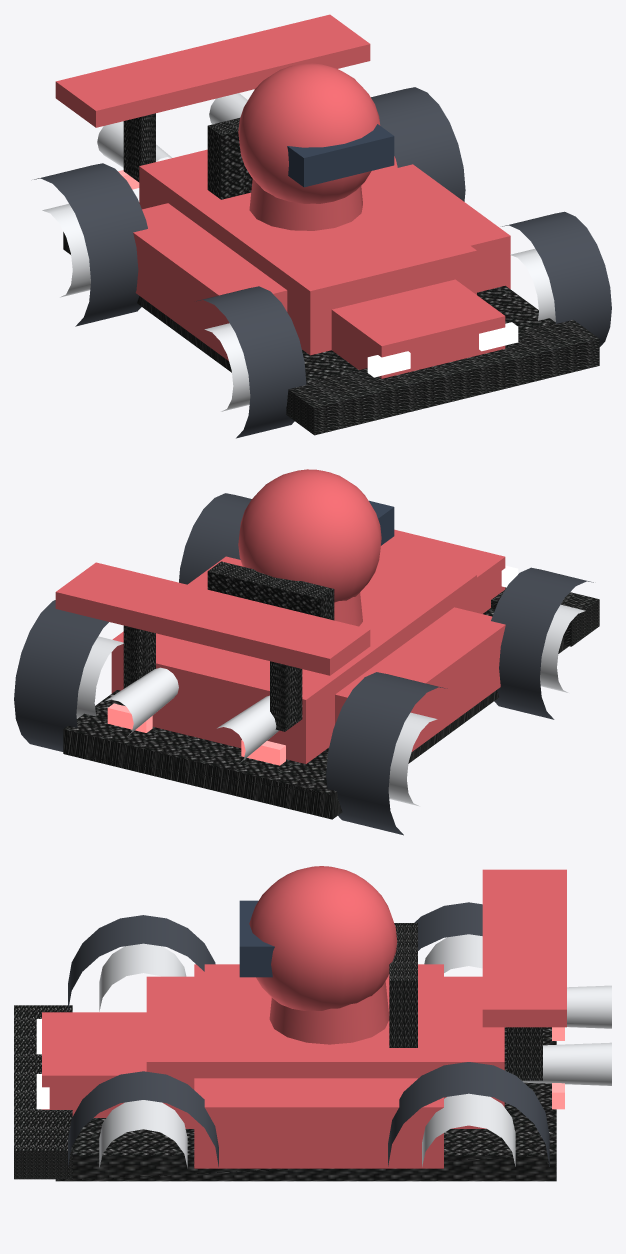
The model's file is kart.glb.
3 views of the same model, one above another, from view 1: azimuth 30°, elevation 25°; view 2: azimuth 150°, elevation 25°; view 3: azimuth 270°, elevation 25° (orthographic). The views are drawn at different scales.
Visible parts, largest first — view 1: KartRoot; view 2: KartRoot; view 3: KartRoot.
Part boxes in pixels (left/top/right/bottom): KartRoot: left=34, top=14, right=611, bottom=438; KartRoot: left=14, top=469, right=599, bottom=835; KartRoot: left=14, top=866, right=611, bottom=1181.
Bounding box in the file's own units: 3.52 × 2.3 × 4.59.
Materials: 7 (1 with a texture image).
